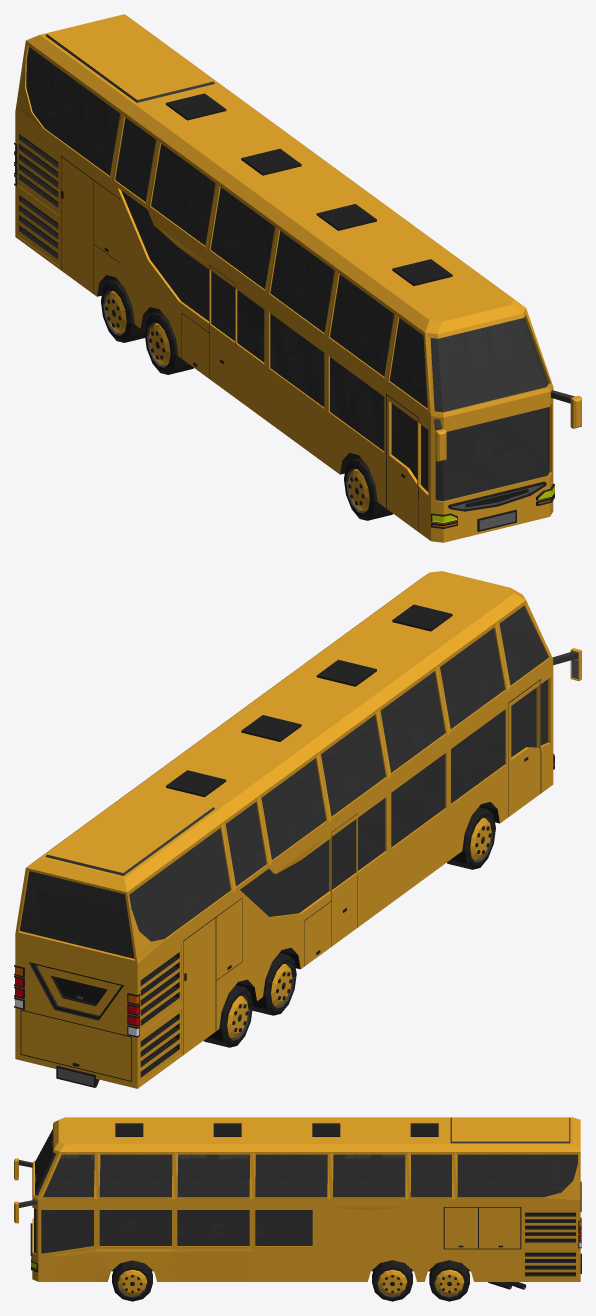
3 views of the same model, one above another, from view 1: azimuth 30°, elevation 25°; view 2: azimuth 150°, elevation 25°; view 3: azimuth 270°, elevation 25° (orthographic). The views are drawn at different scales.
Visible parts, largest first — view 1: bus_001; view 2: bus_001; view 3: bus_001.
Part boxes in pixels (x1=…): bus_001: x1=14, y1=14, x2=581, y2=542; bus_001: x1=14, y1=571, x2=581, y2=1088; bus_001: x1=14, y1=1117, x2=581, y2=1301.
Bounding box in the file's own units: 3.08 × 4.76 × 16.04.
